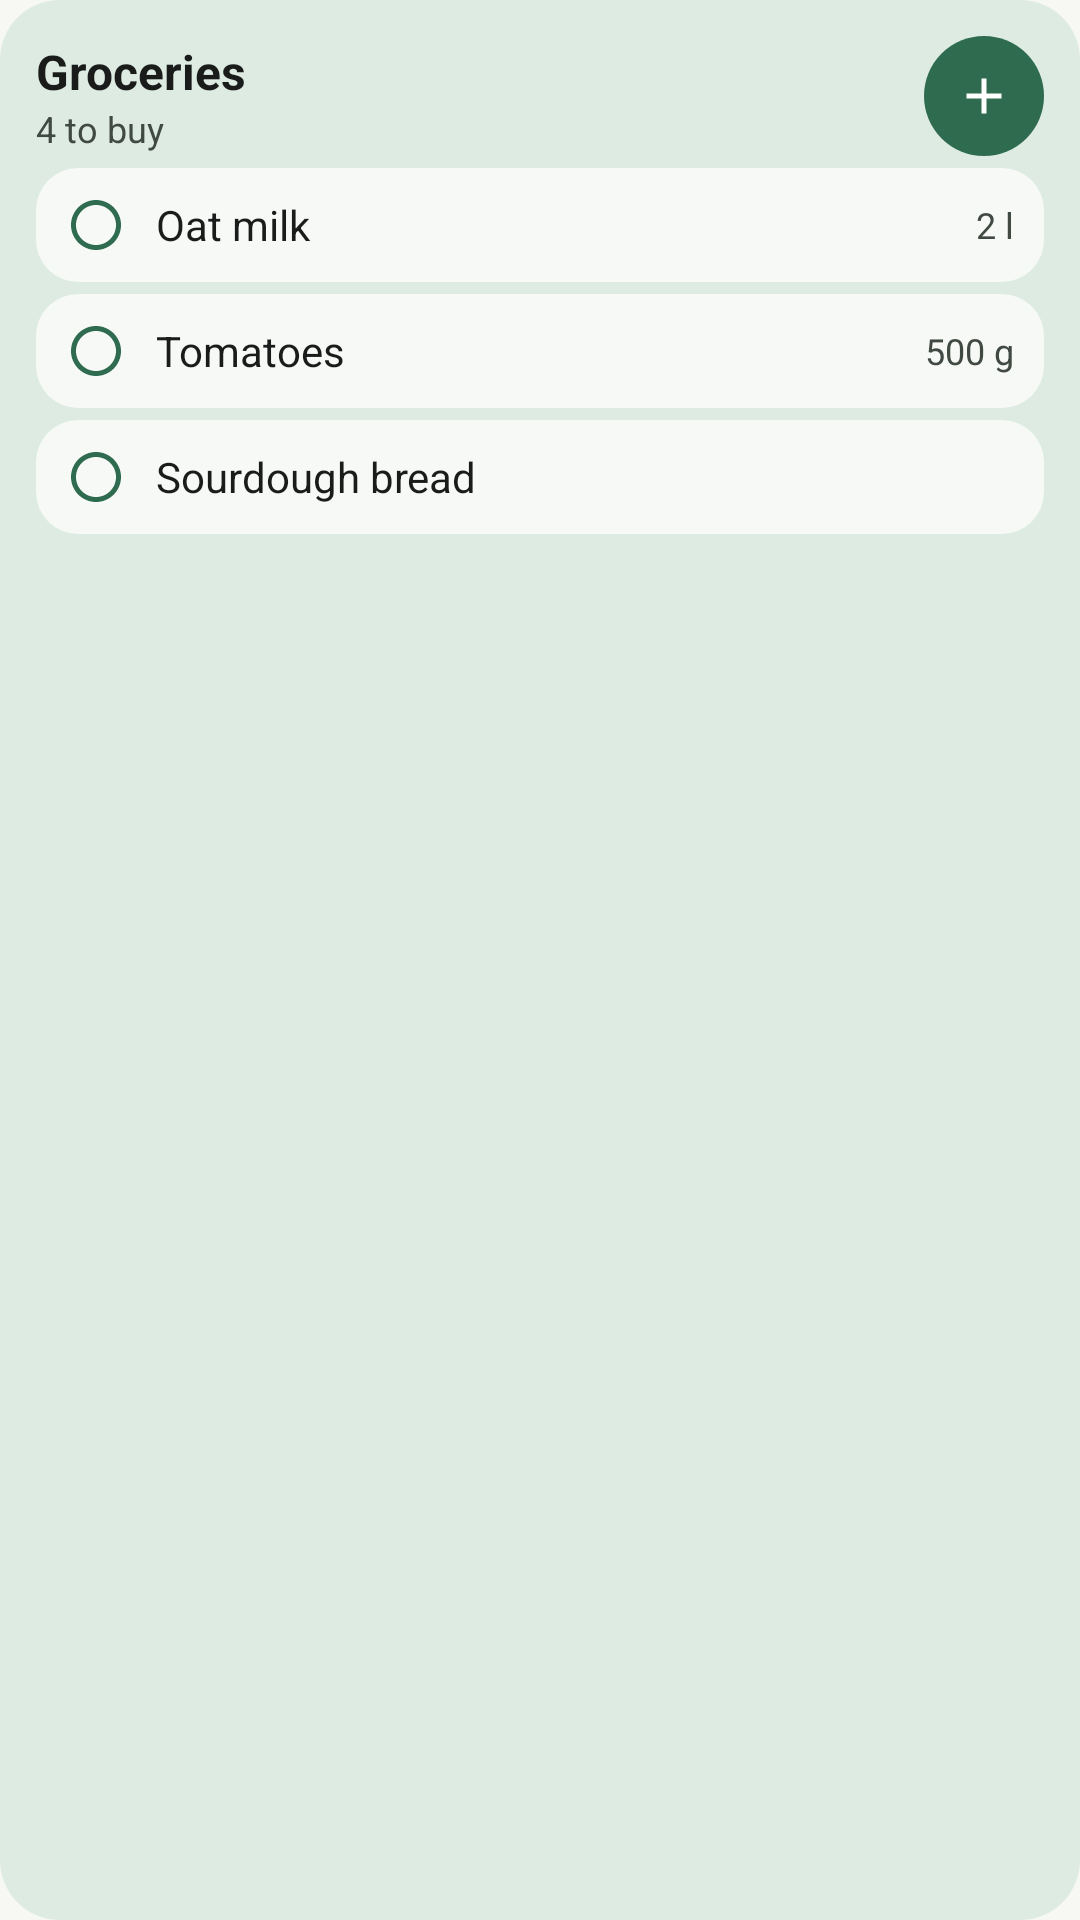

Where icons sit on this 1080x1920 app screen, as (x1, y1, x2, y2):
widget add: (966, 78, 1002, 114)
